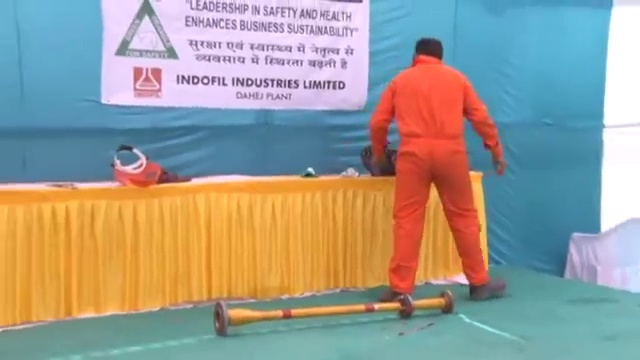helmet_off: (411, 36, 448, 65)
person: (363, 32, 513, 302)
